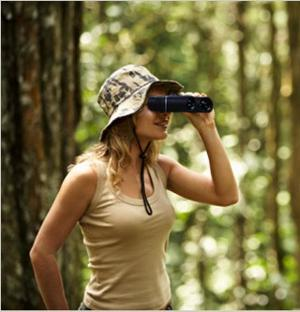person: (31, 66, 239, 311)
